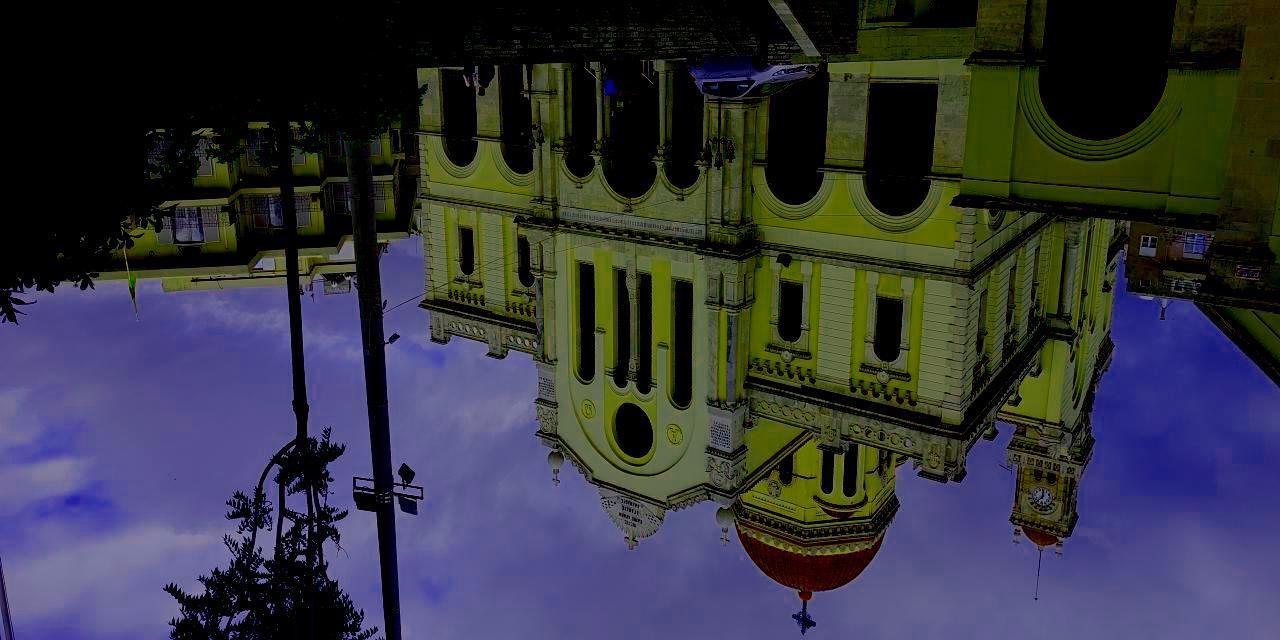Agios Minas: (415, 61, 1122, 611)
